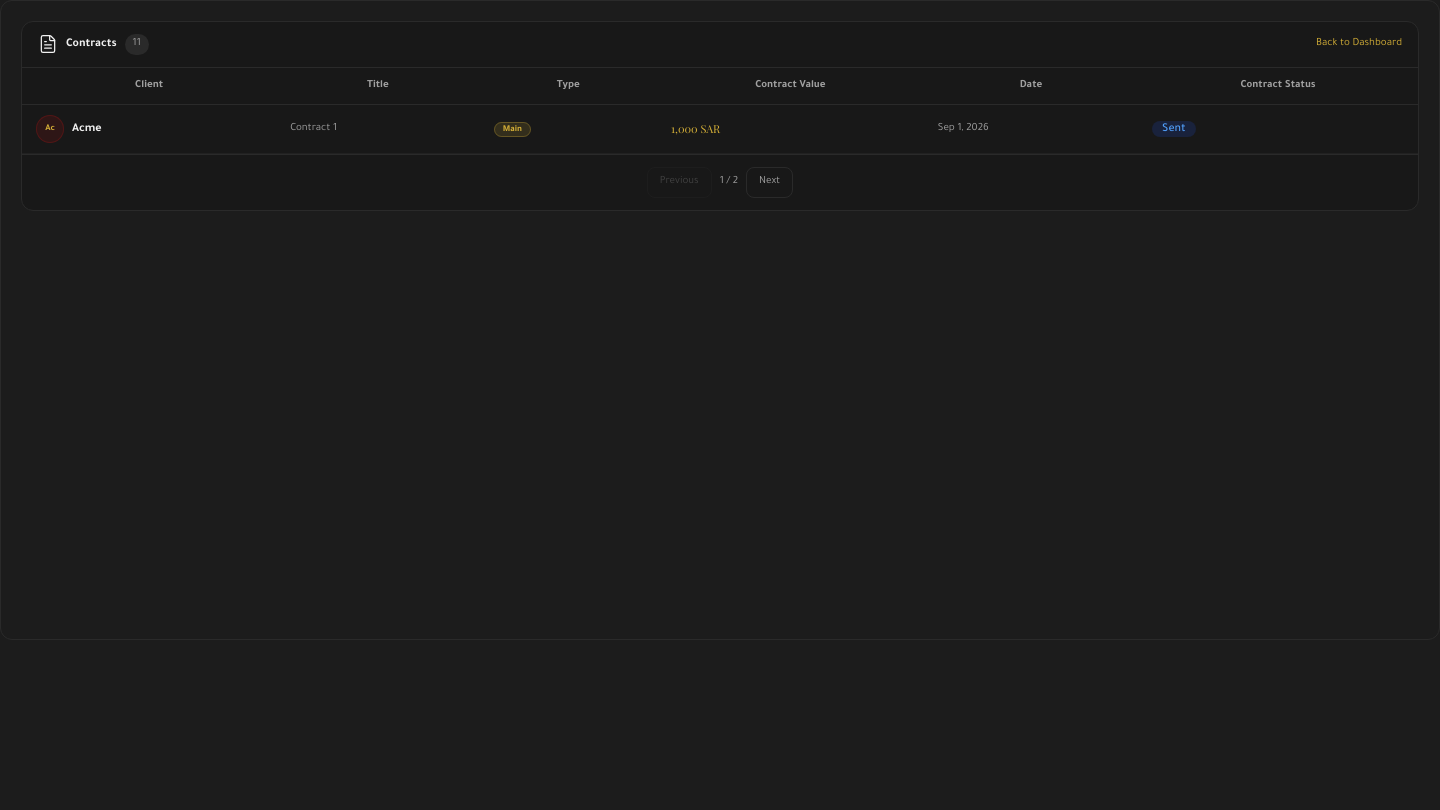
Test: AMListView contracts pagination › shows a next-page control when there is more than one page, and pages through it
Expected: the text "Contract 1" is shown, [276,104,480,154]
Expected: the text "11" is shown, [125,34,149,54]
Click the button "Next" at (770, 182), box [746,167,793,198]
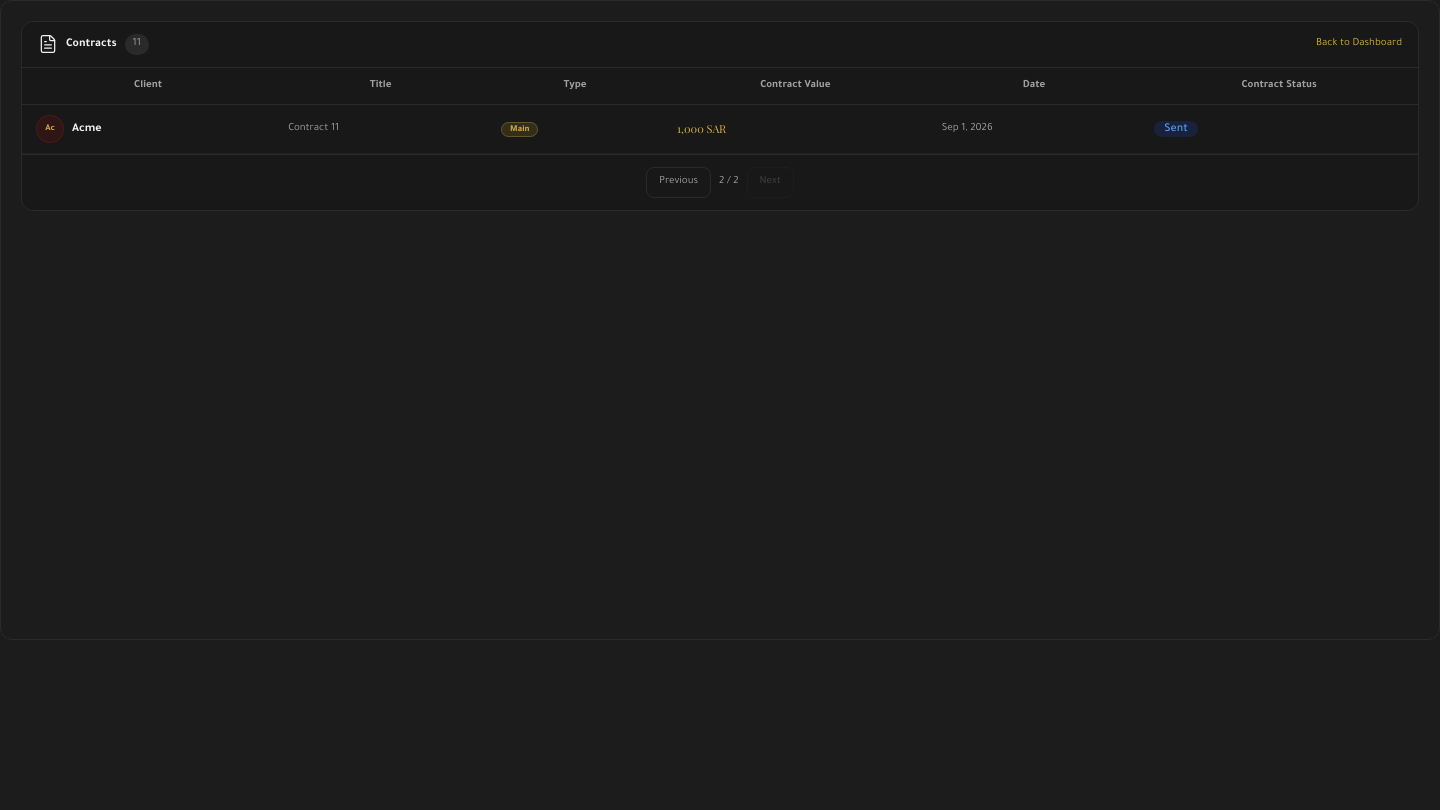
Expected: the text "Contract 11" is shown, [274,104,487,154]
